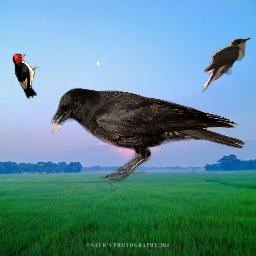Crow: (48, 87, 245, 182)
Cuckoo: (202, 37, 251, 96)
Woodpecker: (12, 53, 40, 99)
